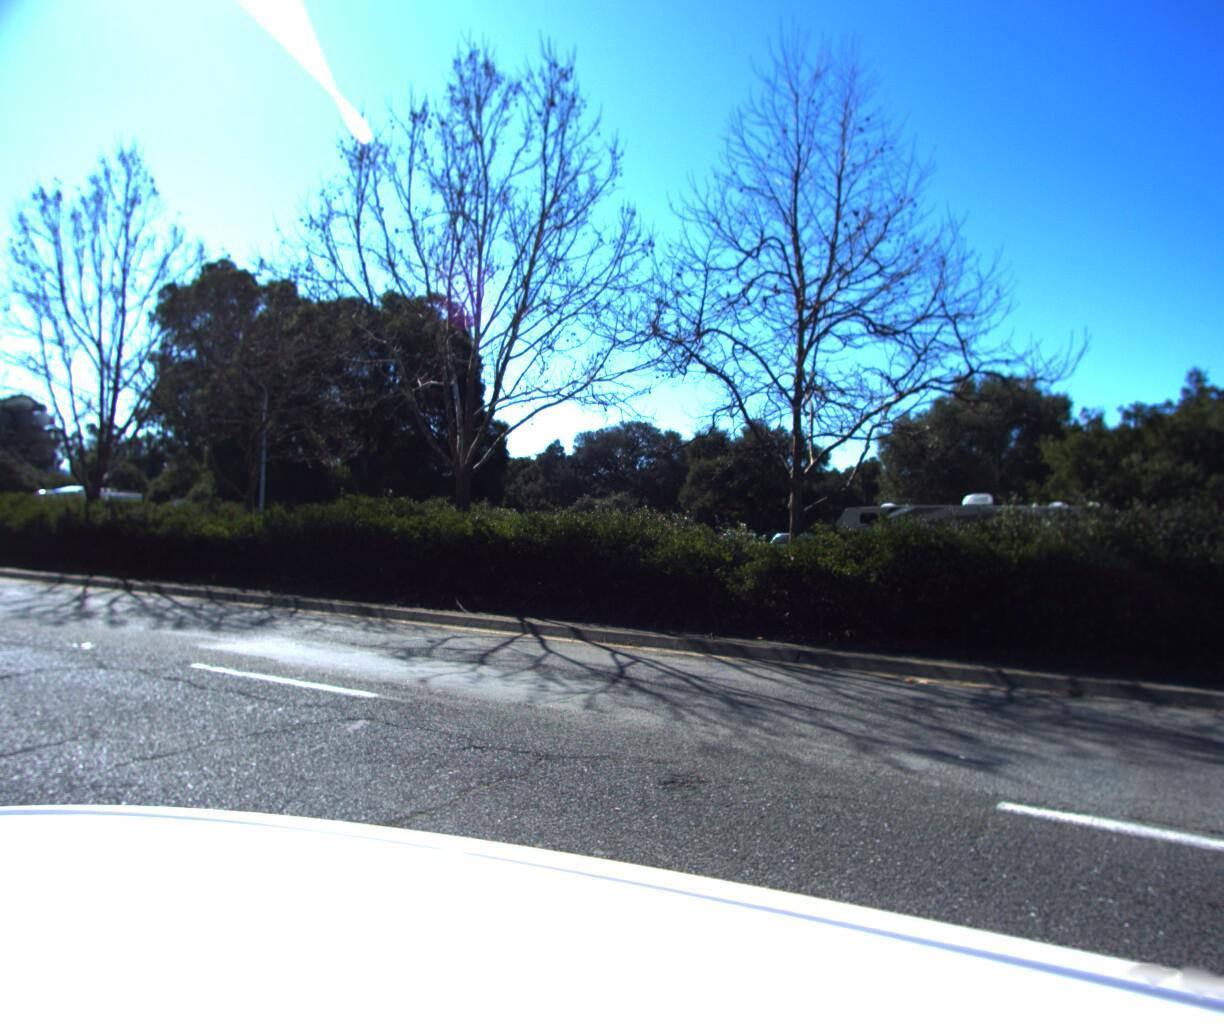other_vehicle: (825, 484, 1120, 628), (17, 488, 157, 556)
